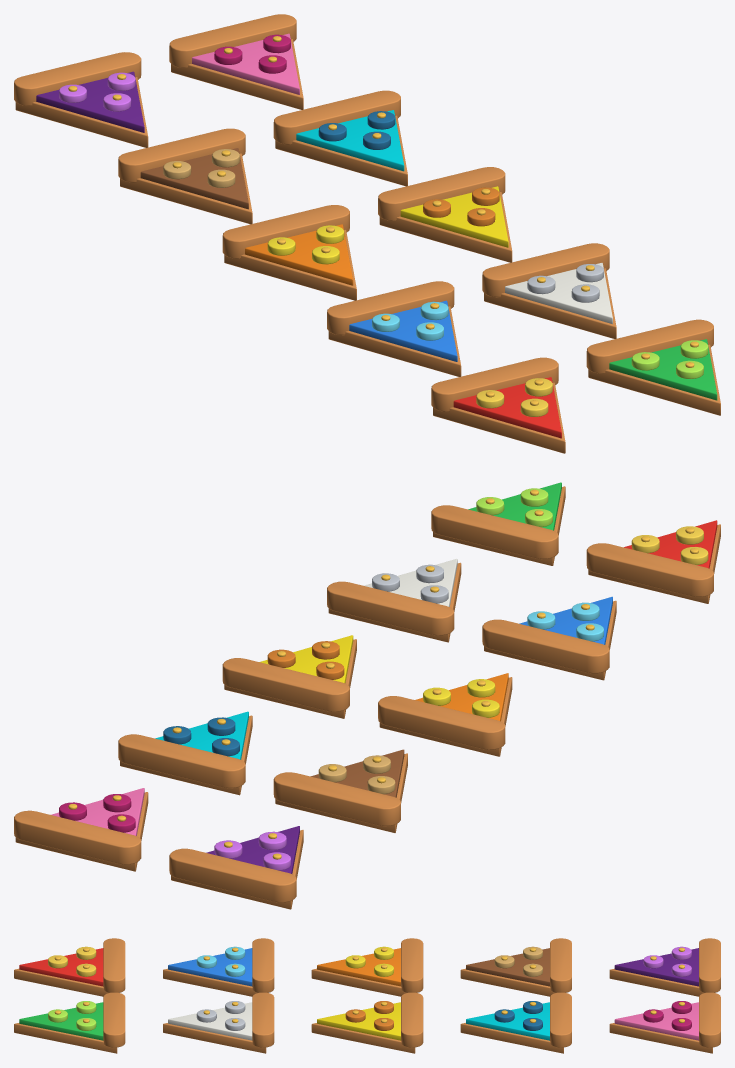
The model's file is PR3D_PizzaVariants_Kit.glb.
3 views of the same model, one above another, from view 1: azimuth 30°, elevation 25°; view 2: azimuth 150°, elevation 25°; view 3: azimuth 270°, elevation 25° (orthographic). The views are drawn at different scales.
Visible parts, largest first — view 1: PR3D_Pizza_09_DarkPurple_Olive, PR3D_Pizza_06_Yellow_Corn, PR3D_Pizza_01_Red_Tomato, PR3D_Pizza_03_Blue_Cheese, PR3D_Pizza_07_Brown_Mushroom, PR3D_Pizza_04_White_Garlic, PR3D_Pizza_02_Green_Basil, PR3D_Pizza_10_Pink_Ham, PR3D_Pizza_05_Orange_Pepper, PR3D_Pizza_08_Cyan_Seafood; view 2: PR3D_Pizza_04_White_Garlic, PR3D_Pizza_05_Orange_Pepper, PR3D_Pizza_03_Blue_Cheese, PR3D_Pizza_07_Brown_Mushroom, PR3D_Pizza_08_Cyan_Seafood, PR3D_Pizza_10_Pink_Ham, PR3D_Pizza_02_Green_Basil, PR3D_Pizza_06_Yellow_Corn, PR3D_Pizza_09_DarkPurple_Olive, PR3D_Pizza_01_Red_Tomato; view 3: PR3D_Pizza_06_Yellow_Corn, PR3D_Pizza_04_White_Garlic, PR3D_Pizza_02_Green_Basil, PR3D_Pizza_10_Pink_Ham, PR3D_Pizza_08_Cyan_Seafood, PR3D_Pizza_05_Orange_Pepper, PR3D_Pizza_03_Blue_Cheese, PR3D_Pizza_01_Red_Tomato, PR3D_Pizza_09_DarkPurple_Olive, PR3D_Pizza_07_Brown_Mushroom.
Boxes of the visible parts, <box> form: PR3D_Pizza_09_DarkPurple_Olive: <box>14,52,148,147</box>; PR3D_Pizza_06_Yellow_Corn: <box>378,167,512,262</box>; PR3D_Pizza_01_Red_Tomato: <box>431,357,565,453</box>; PR3D_Pizza_03_Blue_Cheese: <box>327,281,461,376</box>; PR3D_Pizza_07_Brown_Mushroom: <box>118,128,252,224</box>; PR3D_Pizza_04_White_Garlic: <box>482,243,616,338</box>; PR3D_Pizza_02_Green_Basil: <box>586,319,720,415</box>; PR3D_Pizza_10_Pink_Ham: <box>169,14,303,109</box>; PR3D_Pizza_05_Orange_Pepper: <box>222,205,356,300</box>; PR3D_Pizza_08_Cyan_Seafood: <box>273,90,407,186</box>; PR3D_Pizza_04_White_Garlic: <box>327,559,461,642</box>; PR3D_Pizza_05_Orange_Pepper: <box>378,673,512,756</box>; PR3D_Pizza_03_Blue_Cheese: <box>482,596,616,680</box>; PR3D_Pizza_07_Brown_Mushroom: <box>273,749,407,832</box>; PR3D_Pizza_08_Cyan_Seafood: <box>118,711,252,795</box>; PR3D_Pizza_10_Pink_Ham: <box>14,788,148,871</box>; PR3D_Pizza_02_Green_Basil: <box>431,482,565,565</box>; PR3D_Pizza_06_Yellow_Corn: <box>222,635,356,718</box>; PR3D_Pizza_09_DarkPurple_Olive: <box>169,826,303,909</box>; PR3D_Pizza_01_Red_Tomato: <box>586,520,720,603</box>; PR3D_Pizza_06_Yellow_Corn: <box>311,992,423,1053</box>; PR3D_Pizza_04_White_Garlic: <box>163,992,274,1053</box>; PR3D_Pizza_02_Green_Basil: <box>14,992,125,1053</box>; PR3D_Pizza_10_Pink_Ham: <box>609,992,720,1053</box>; PR3D_Pizza_08_Cyan_Seafood: <box>460,992,571,1053</box>; PR3D_Pizza_05_Orange_Pepper: <box>311,938,423,996</box>; PR3D_Pizza_03_Blue_Cheese: <box>163,938,274,996</box>; PR3D_Pizza_01_Red_Tomato: <box>14,938,125,996</box>; PR3D_Pizza_09_DarkPurple_Olive: <box>609,938,720,996</box>; PR3D_Pizza_07_Brown_Mushroom: <box>460,938,571,996</box>.
Size of the model in its own units: 3.31 by 0.3445 by 10.21.
